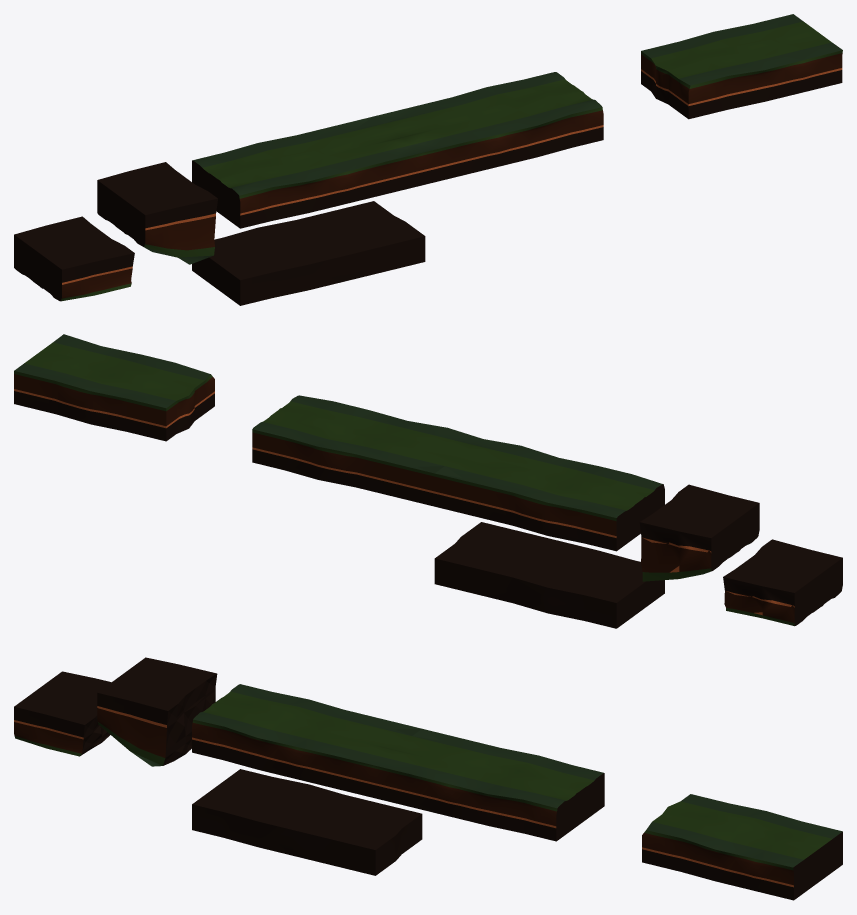
Rendered from floorsubida.FBX.
The picture shows the model from 3 angles, top to bottom: view 1: azimuth 30°, elevation 25°; view 2: azimuth 150°, elevation 25°; view 3: azimuth 330°, elevation 25°; orthographic projection.
Parts seen in each view (by area): view 1: Box002, Object003, Box001, Object002, Object001; view 2: Box002, Object003, Box001, Object002, Object001; view 3: Box002, Object003, Box001, Object002, Object001.
Part boxes in pixels (box(x1,y1,x2,y2)): Box002: box(192, 72, 603, 228); Object003: box(192, 201, 425, 305); Box001: box(641, 14, 842, 119); Object002: box(97, 162, 217, 264); Object001: box(14, 216, 134, 301); Box002: box(252, 395, 664, 551); Object003: box(434, 522, 664, 628); Box001: box(14, 334, 214, 441); Object002: box(639, 484, 759, 581); Object001: box(723, 539, 842, 626); Box002: box(192, 684, 604, 841); Object003: box(192, 769, 422, 875); Box001: box(642, 794, 842, 900); Object002: box(97, 657, 217, 766); Object001: box(14, 671, 111, 756).
Size of the model in its own units: 512 by 71.5 by 59.2.
